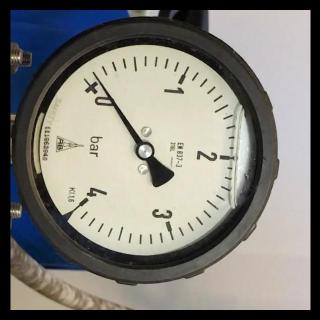gauge: (11, 10, 300, 302), (78, 72, 114, 109), (64, 183, 100, 219), (134, 141, 155, 161), (90, 67, 98, 79)
